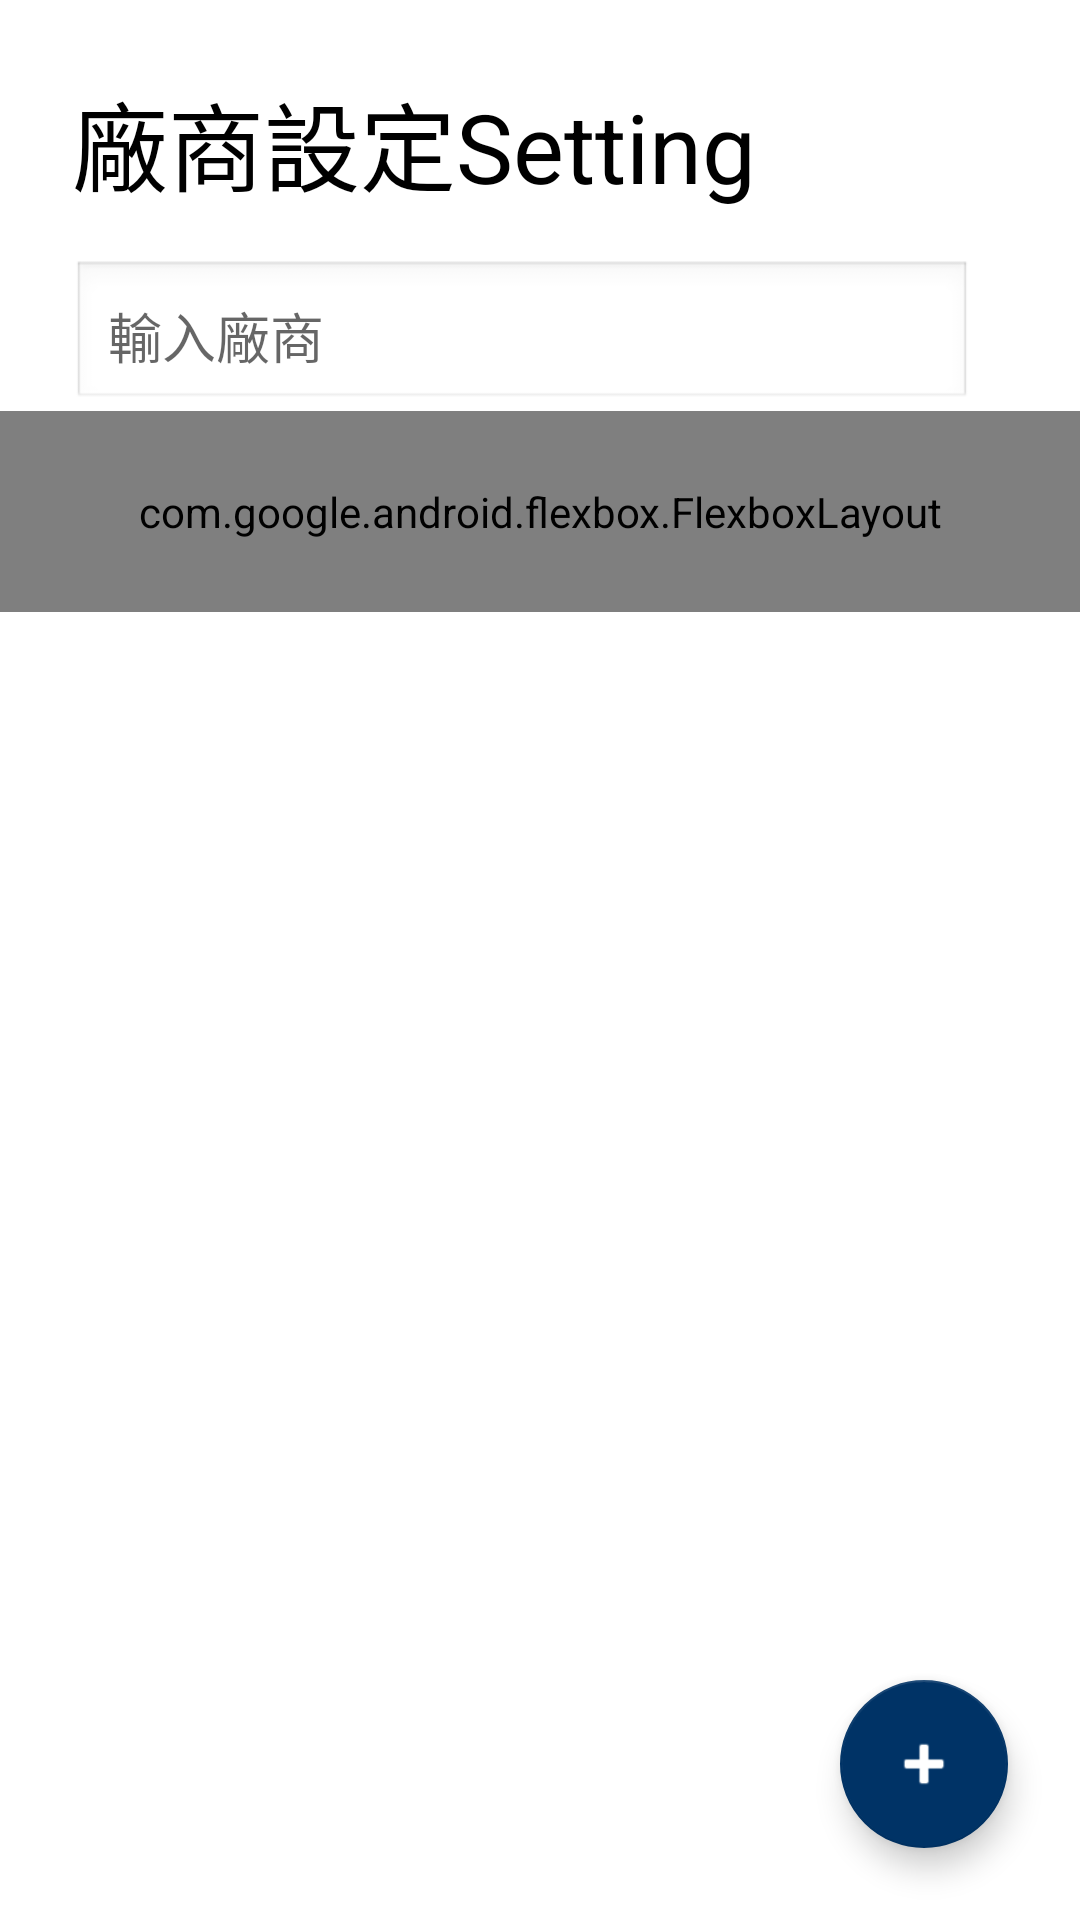

Where icons sit on this 1080px×1920px app screen, as box(x1, y1, x2, y2):
新增廠商: box(840, 1680, 1008, 1848)
